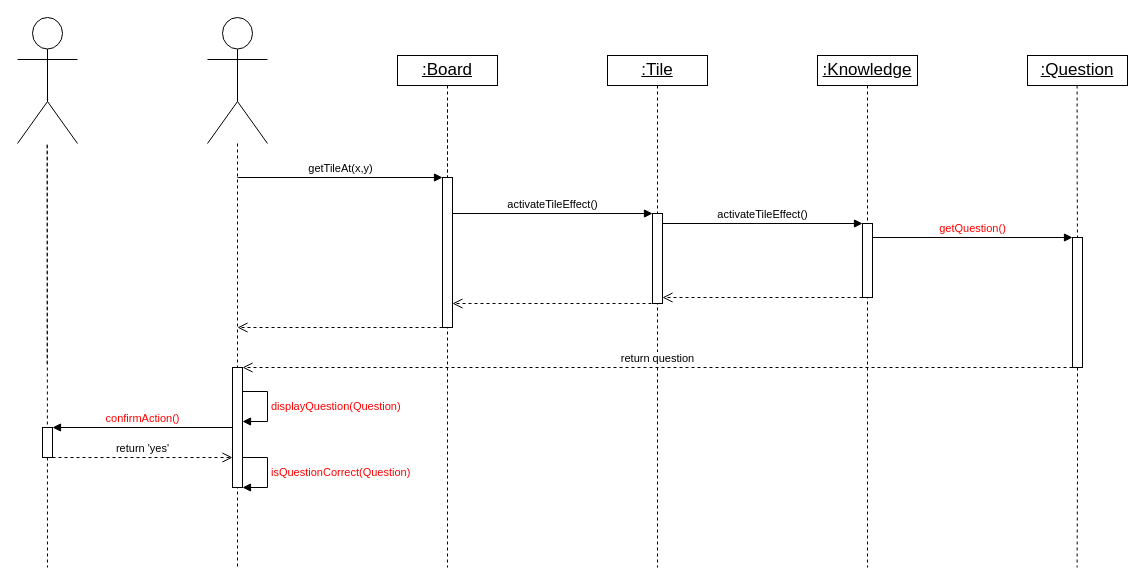
This 1145x586 diagram has some shape labels left out. Here are the shapes that lost their labels. From the top down, the centre of each, then its label:
[47,80]: :Player
[237,80]: :GameSystem
